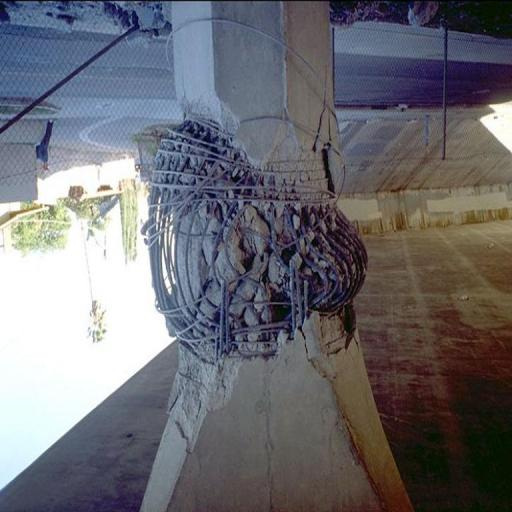spalling: (150, 118, 374, 360)
